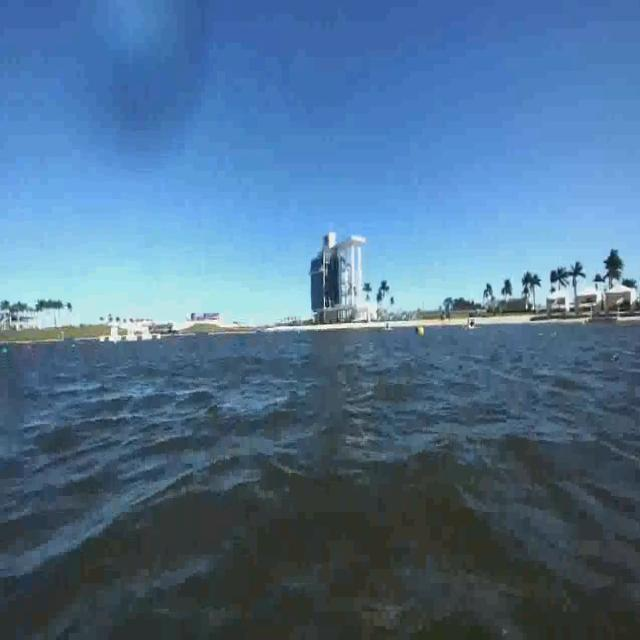yellow-buoy: (418, 324, 425, 337)
